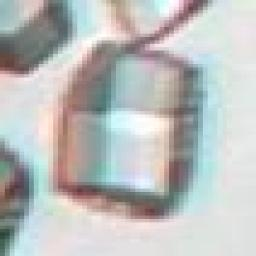crystals: (47, 34, 209, 228)
